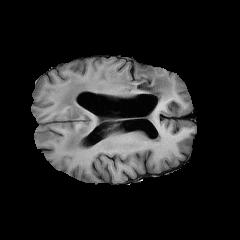glioma: (51, 70, 172, 151)
